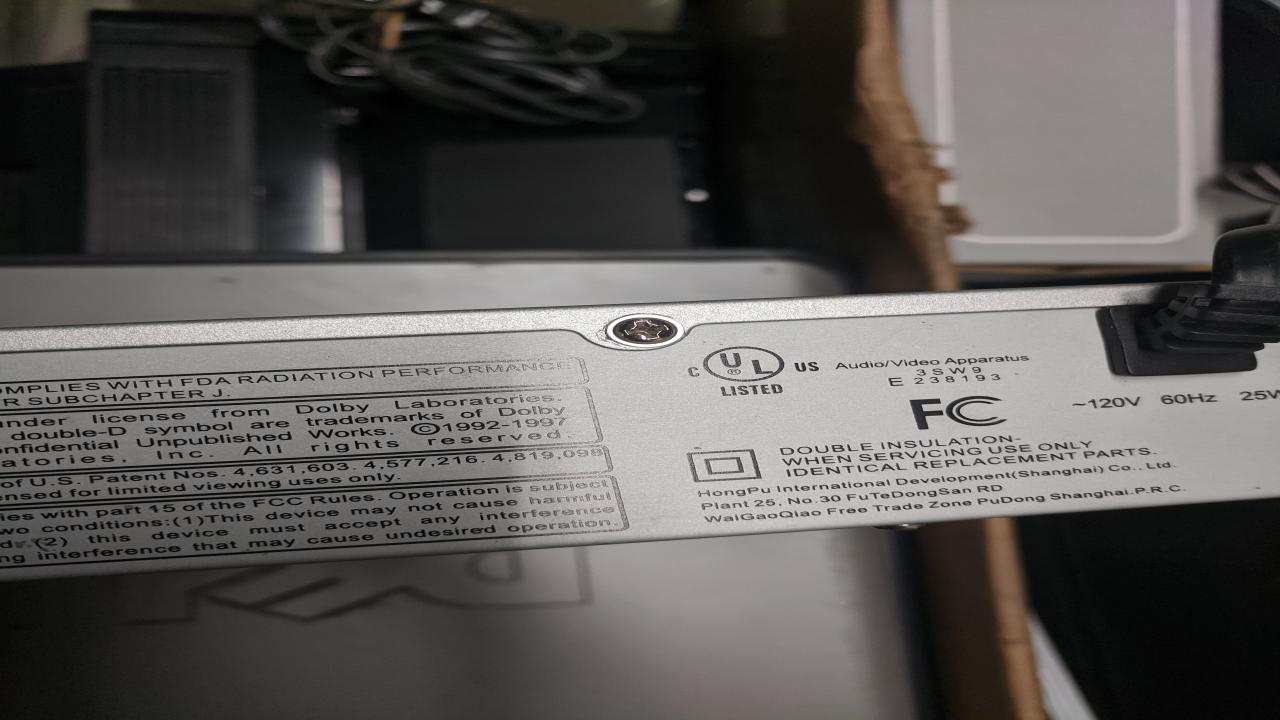CRS: (616, 315, 677, 343)
